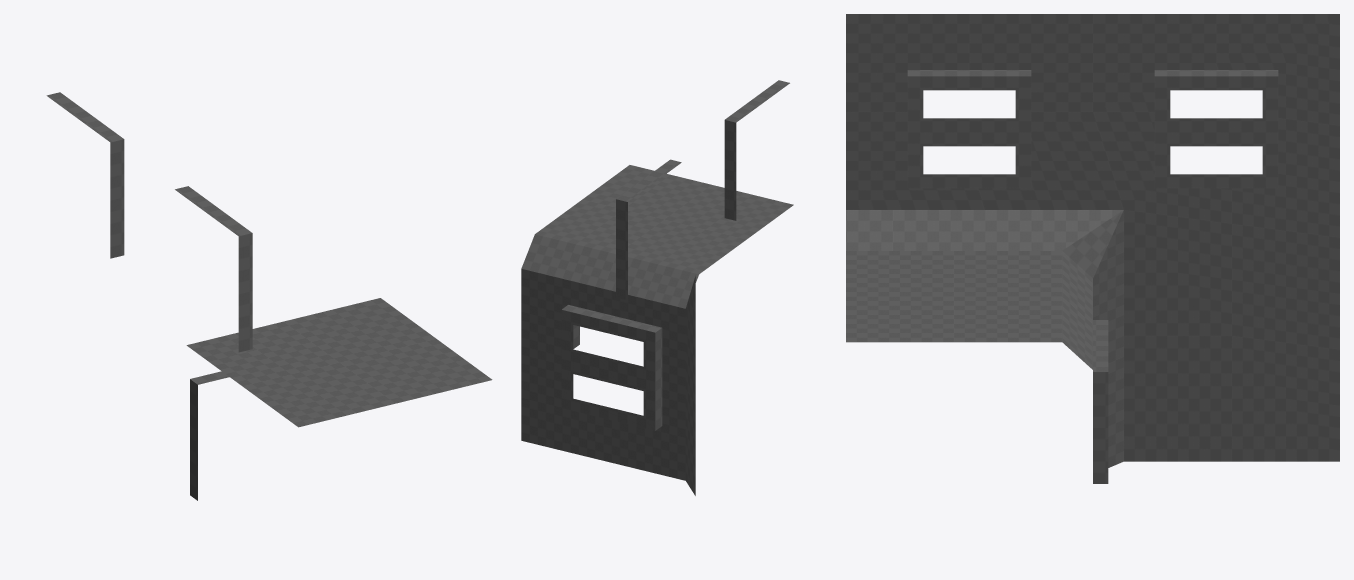
3 views of the same model, side by side, from view 1: azimuth 30°, elevation 25°; view 2: azimuth 150°, elevation 25°; view 3: azimuth 270°, elevation 25° (orthographic). The views are drawn at different scales.
Visible parts, largest first — view 1: CubeUpBackRight5V3; view 2: CubeUpBackRight5V3; view 3: CubeUpBackRight5V3.
Part boxes in pixels (<box>): CubeUpBackRight5V3: <box>46,92,492,500</box>; CubeUpBackRight5V3: <box>521,80,793,495</box>; CubeUpBackRight5V3: <box>846,14,1339,483</box>.
Size of the model in its own units: 2 by 4 by 4.
Materials: 1 (1 with a texture image).
